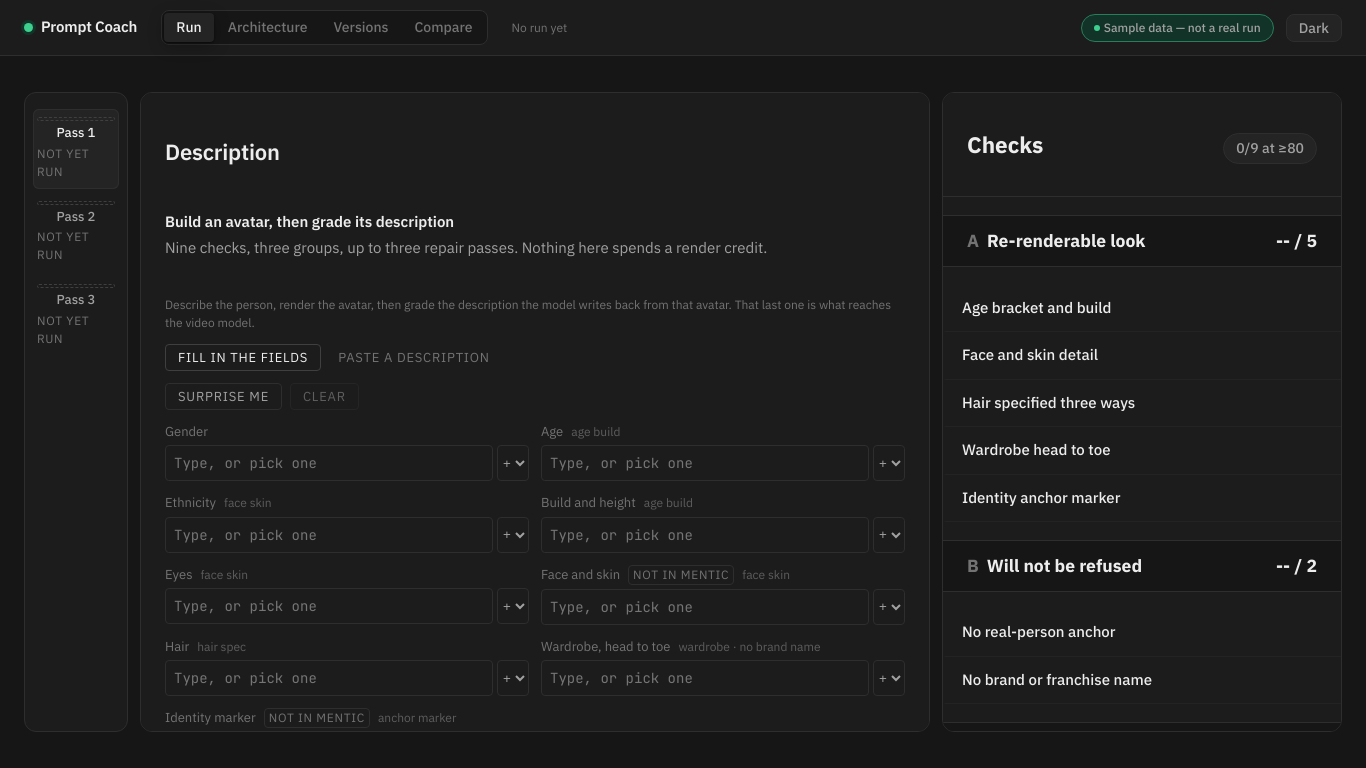
Test case: App shell › renders the real Versions screen, not the Task 12 stub
Click the link "Versions": (361, 27) [334,18,388,36]
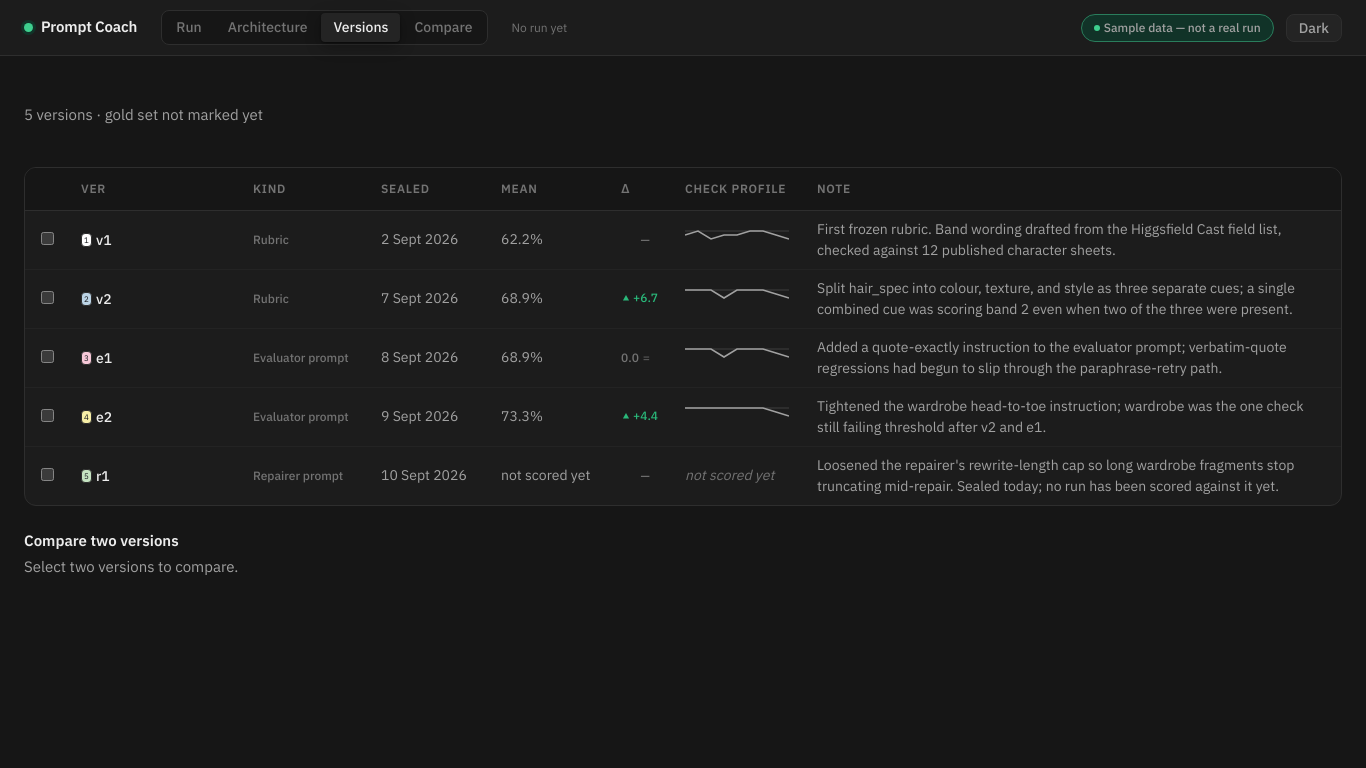
Expected: the text "First frozen rubric" is shown, [817,220,1282,258]
